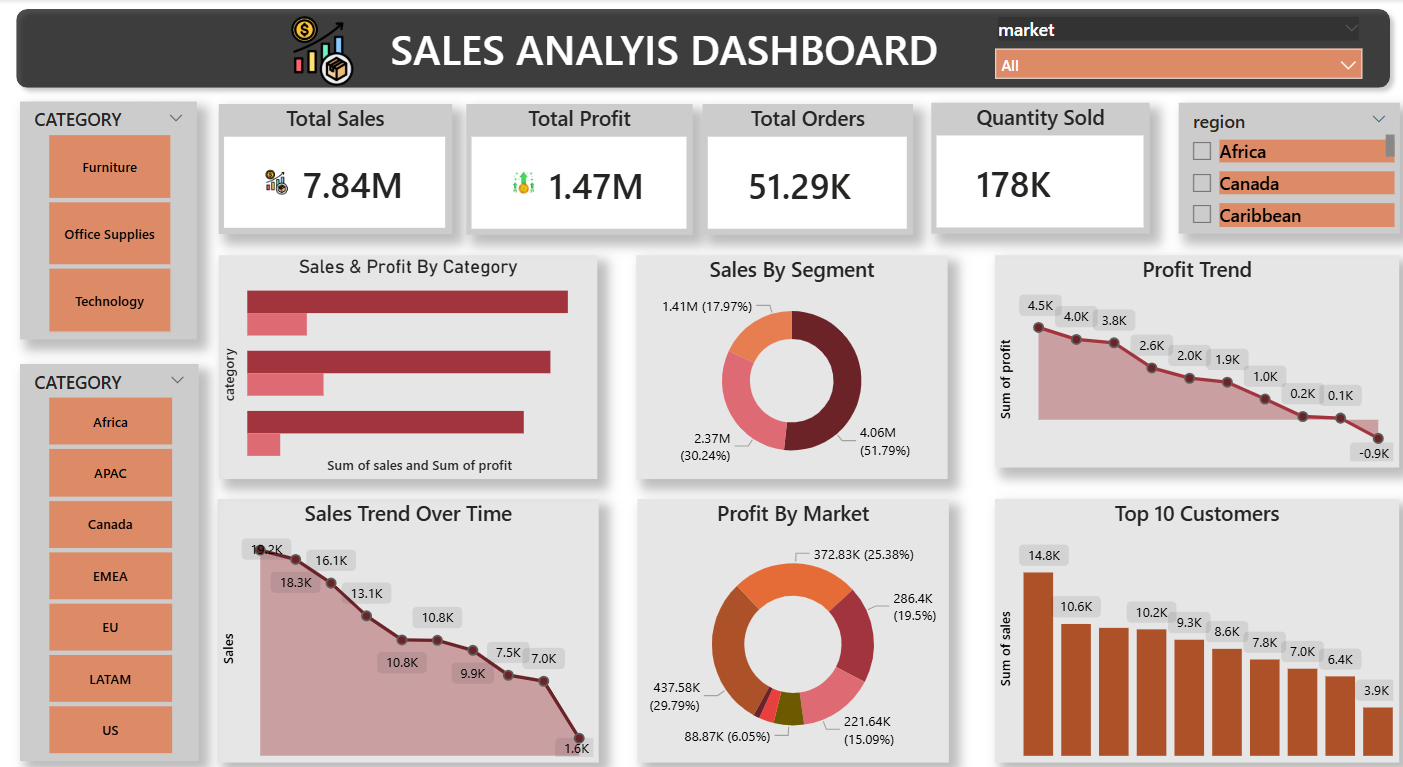

The page's visual inventory and layout, read from the dashboard file:
{"tool":"powerbi","page":{"name":"Page 1","canvas":[1280,720],"ordinal":0},"visuals":[{"type":"cardVisual","title":"Total Sales","fields":{"Data":["Sum(superstore_db superstore_data.sales)"]},"box":[202.5,94.7,210.9,117.5],"z":0},{"type":"lineChart","title":"Sales Trend Over Time ","fields":{"Category":["superstore_db superstore_data.order_date"],"Y":["Sum(superstore_db superstore_data.sales)"]},"box":[201.3,451.8,345.2,238.5],"z":1000},{"type":"lineChart","title":"Profit Trend","fields":{"Category":["superstore_db superstore_data.order_date"],"Y":["Sum(superstore_db superstore_data.profit)"]},"box":[904.9,231.3,365.5,191.8],"z":2000},{"type":"clusteredBarChart","title":"Sales & Profit By Category","fields":{"Category":["superstore_db superstore_data.category"],"Y":["Sum(superstore_db superstore_data.sales)","Sum(superstore_db superstore_data.profit)"]},"box":[202.5,231.3,342.8,202.5],"z":3000},{"type":"shape","box":[10.2,0,1260.7,89.3],"z":4000},{"type":"textbox","box":[352.4,14.4,509.4,59.9],"z":5000},{"type":"cardVisual","title":"Total Profit","fields":{"Data":["Sum(superstore_db superstore_data.profit)"]},"box":[426.7,94.7,204.9,118.7],"z":6000},{"type":"cardVisual","title":"Total Orders","fields":{"Data":["CountNonNull(superstore_db superstore_data.order_id)"]},"box":[640,94.7,190.6,118.7],"z":7000},{"type":"cardVisual","title":"Quantity Sold","fields":{"Data":["Sum(superstore_db superstore_data.quantity)"]},"box":[847.3,93.5,197.8,118.7],"z":8000},{"type":"slicer","title":"CATEGORY","fields":{"Values":["superstore_db superstore_data.category"]},"box":[23.1,92.3,160.1,215],"z":9000},{"type":"slicer","title":"CATEGORY","fields":{"Values":["superstore_db superstore_data.market"]},"box":[23.1,330.4,161.6,359.2],"z":10000},{"type":"columnChart","title":"Top 10 Customers","fields":{"Y":["Sum(superstore_db superstore_data.sales)"],"Category":["superstore_db superstore_data.customer_name"]},"box":[904.9,451.8,365.5,238.5],"z":11000},{"type":"donutChart","title":"Sales By Segment","fields":{"Y":["Sum(superstore_db superstore_data.sales)"],"Category":["superstore_db superstore_data.segment"]},"box":[580.1,231.3,281.6,202.5],"z":12000},{"type":"donutChart","title":"Profit By Market","fields":{"Category":["superstore_db superstore_data.market"],"Y":["Sum(superstore_db superstore_data.profit)"]},"box":[581.3,451.8,281.6,238.5],"z":13000},{"type":"slicer","fields":{"Values":["superstore_db superstore_data.region"]},"box":[1070.3,93.5,200.1,118.7],"z":14000},{"type":"image","box":[252.9,14.4,85.1,64.7],"z":15000},{"type":"slicer","fields":{"Values":["superstore_db superstore_data.market"]},"box":[894.5,11.5,352,64.9],"z":15001}]}

Visuals, with their boxes in screenshot pixels (x1, y1, x2, y2), scaled from the page's 1280x720 canvas onto the 1403x767 screenshot:
"Total Sales" cardVisual: [x1=222, y1=101, x2=453, y2=226]
"Sales Trend Over Time " lineChart: [x1=221, y1=481, x2=599, y2=735]
"Profit Trend" lineChart: [x1=992, y1=246, x2=1392, y2=451]
"Sales & Profit By Category" clusteredBarChart: [x1=222, y1=246, x2=598, y2=462]
shape: [x1=11, y1=0, x2=1393, y2=95]
textbox: [x1=386, y1=15, x2=945, y2=79]
"Total Profit" cardVisual: [x1=468, y1=101, x2=692, y2=227]
"Total Orders" cardVisual: [x1=702, y1=101, x2=910, y2=227]
"Quantity Sold" cardVisual: [x1=929, y1=100, x2=1146, y2=226]
"CATEGORY" slicer: [x1=25, y1=98, x2=201, y2=327]
"CATEGORY" slicer: [x1=25, y1=352, x2=202, y2=735]
"Top 10 Customers" columnChart: [x1=992, y1=481, x2=1392, y2=735]
"Sales By Segment" donutChart: [x1=636, y1=246, x2=945, y2=462]
"Profit By Market" donutChart: [x1=637, y1=481, x2=946, y2=735]
slicer - superstore_db superstore_data.region: [x1=1173, y1=100, x2=1392, y2=226]
image: [x1=277, y1=15, x2=370, y2=84]
slicer - superstore_db superstore_data.market: [x1=980, y1=12, x2=1366, y2=81]
